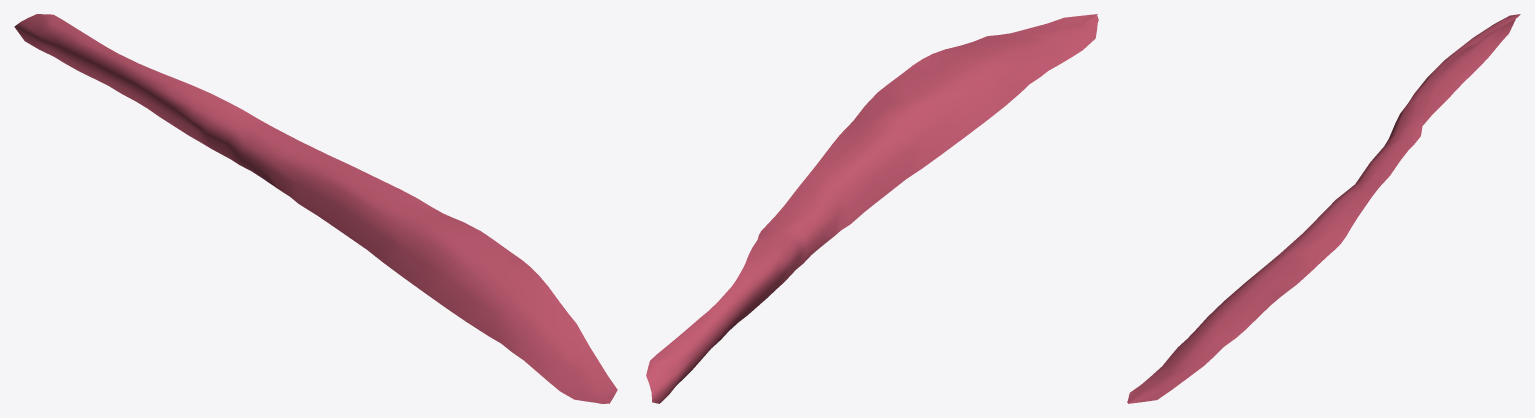
The picture shows the model from 3 angles, left to right: view 1: azimuth 30°, elevation 25°; view 2: azimuth 150°, elevation 25°; view 3: azimuth 330°, elevation 25°; orthographic projection. The views are drawn at different scales.
Parts seen in each view (by area): view 1: 左侧小腿后肌间隔; view 2: 左侧小腿后肌间隔; view 3: 左侧小腿后肌间隔.
Part boxes in pixels (left/top/right/bottom): 左侧小腿后肌间隔: left=14, top=14, right=617, bottom=403; 左侧小腿后肌间隔: left=646, top=14, right=1098, bottom=403; 左侧小腿后肌间隔: left=1127, top=14, right=1520, bottom=403.
Size of the model in its own units: 0.0639 by 0.0292 by 0.4289.
